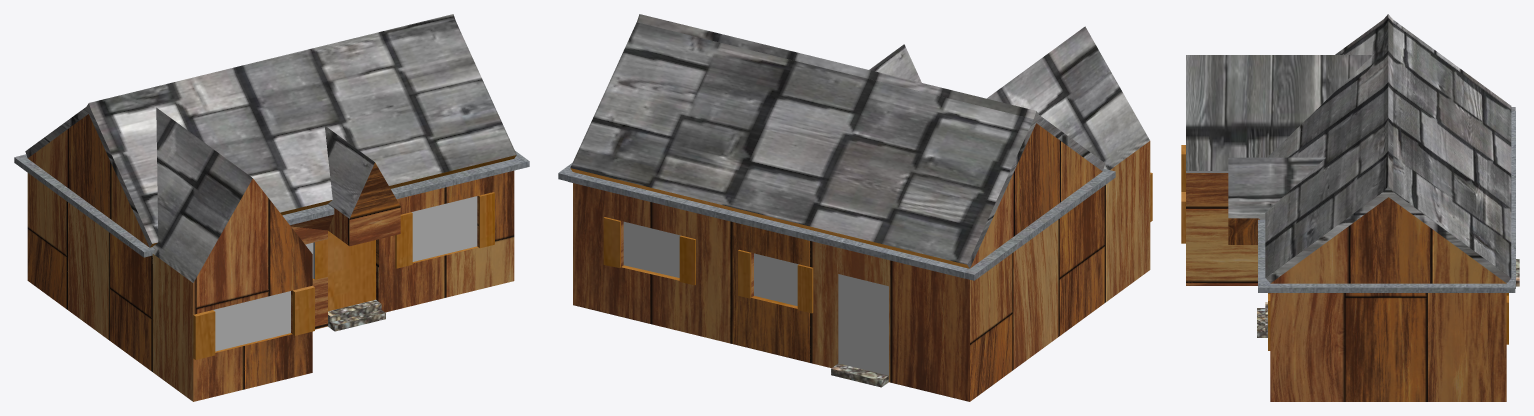
Rendered from PasadenaHouseFacade2.fbx.
3 views of the same model, side by side, from view 1: azimuth 30°, elevation 25°; view 2: azimuth 150°, elevation 25°; view 3: azimuth 270°, elevation 25° (orthographic). The views are drawn at different scales.
Visible parts, largest first — view 1: pCube1; view 2: pCube1; view 3: pCube1.
Part boxes in pixels (left/top/right/bottom): pCube1: left=14, top=14, right=529, bottom=401; pCube1: left=558, top=14, right=1152, bottom=401; pCube1: left=1181, top=14, right=1519, bottom=401.
Size of the model in its own units: 21 by 11.68 by 16.62.
